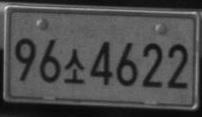2: (141, 42, 164, 87), (167, 43, 188, 89)
4: (89, 40, 113, 86)
6: (38, 38, 61, 83), (115, 42, 138, 86)
9: (13, 37, 37, 81)
소: (62, 48, 85, 84)
